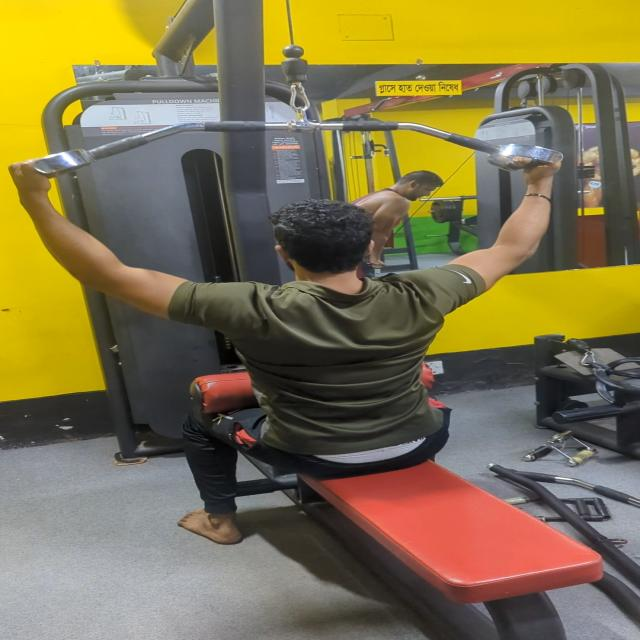Normal_LatPulldown: (0, 114, 640, 610)
